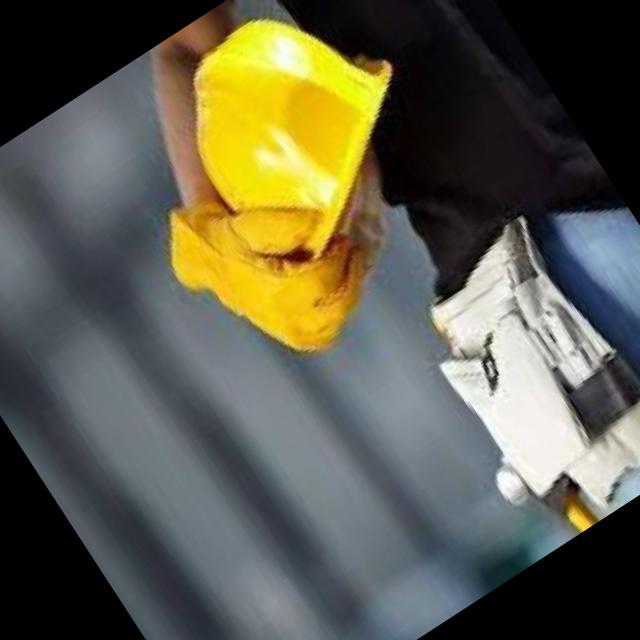hard_hat: (145, 0, 478, 294)
